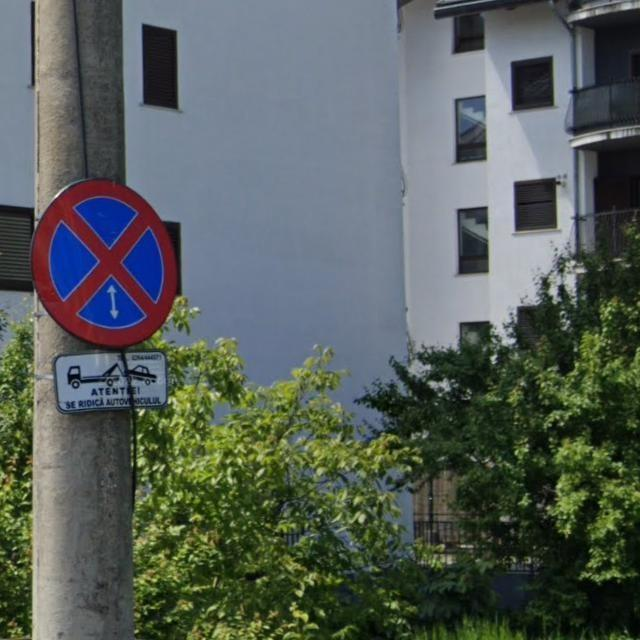forb_waiting: (29, 179, 176, 348)
